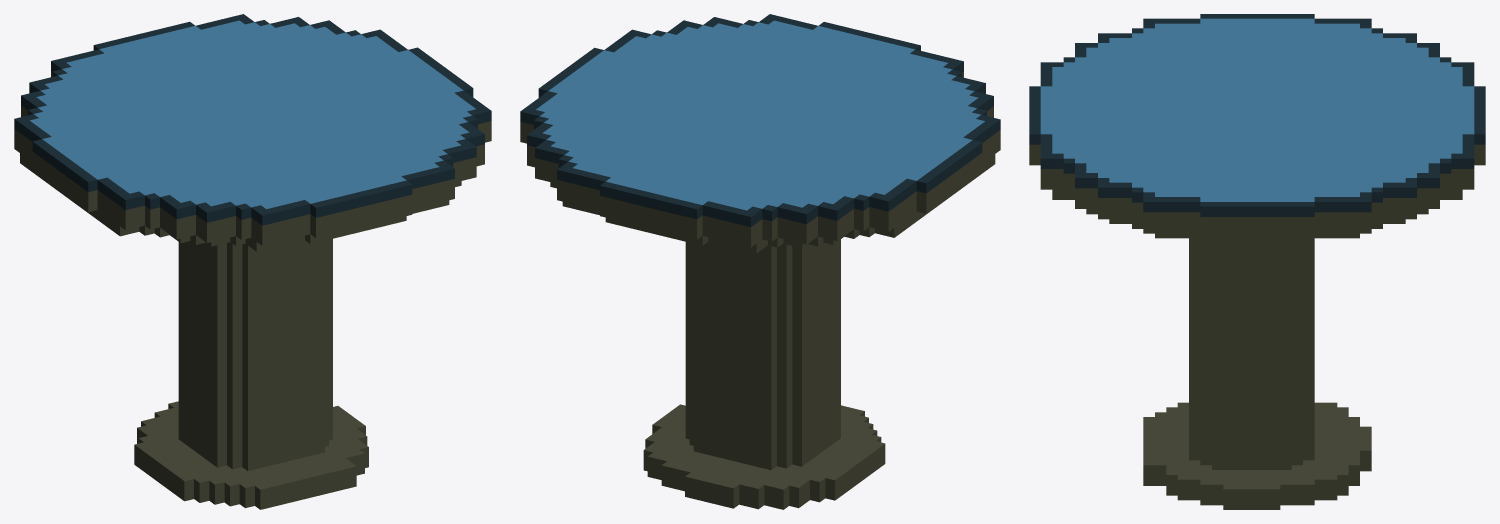
File: table.obj
The picture shows the model from 3 angles, left to right: view 1: azimuth 30°, elevation 25°; view 2: azimuth 150°, elevation 25°; view 3: azimuth 270°, elevation 25°; orthographic projection. The views are drawn at different scales.
Size of the model in its own units: 4 by 3.4 by 4.
Materials: 1 (1 with a texture image).
